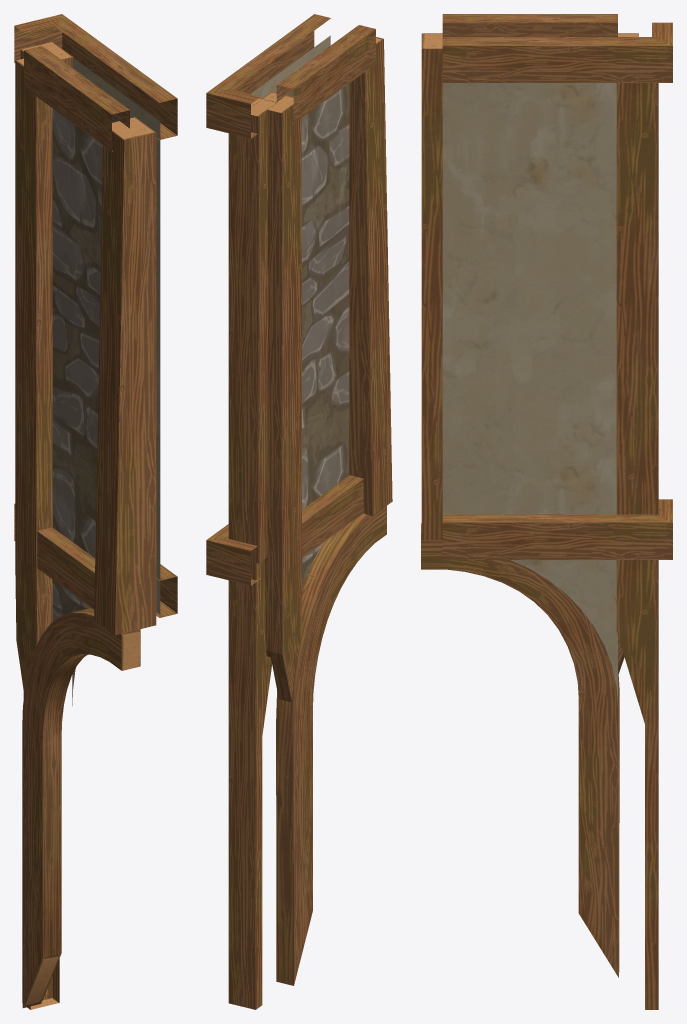
Rendered from Overhang_Side_UnevenBrick_Short_L.gltf.
3 renders of one model, left to right at view 1: azimuth 30°, elevation 25°; view 2: azimuth 150°, elevation 25°; view 3: azimuth 270°, elevation 25°, orthographic. The views are drawn at different scales.
Parts seen in each view (by area): view 1: Overhang_Side_UnevenBrick_Short_L; view 2: Overhang_Side_UnevenBrick_Short_L; view 3: Overhang_Side_UnevenBrick_Short_L.
Part boxes in pixels (bbox=[...]): Overhang_Side_UnevenBrick_Short_L: bbox=[14, 14, 177, 1009]; Overhang_Side_UnevenBrick_Short_L: bbox=[206, 14, 392, 1009]; Overhang_Side_UnevenBrick_Short_L: bbox=[421, 14, 672, 1009].
Bounding box in the file's own units: 0.4793 × 6.12 × 1.44.
Materials: 3 (3 with a texture image).
